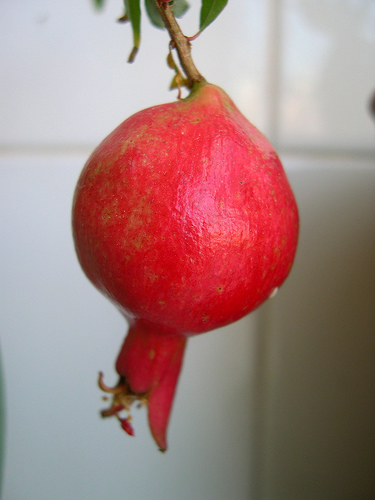pomogranate: (71, 81, 300, 451)
